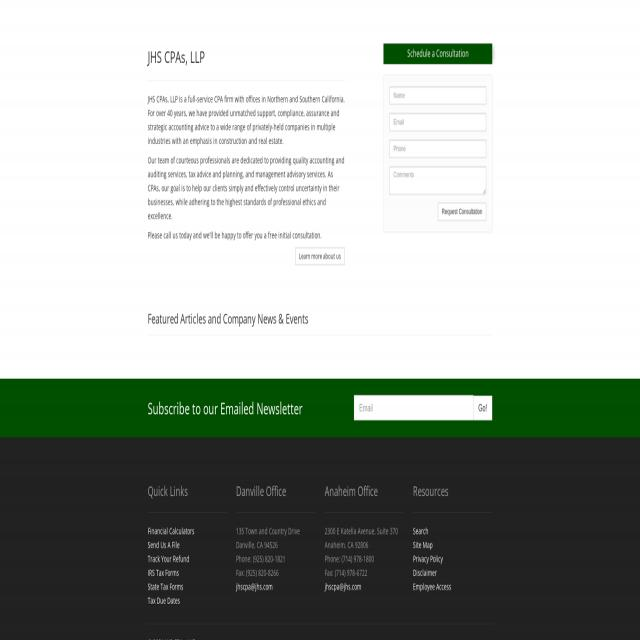button: (295, 247, 345, 265), (438, 202, 486, 220), (473, 396, 492, 420)
field: (354, 396, 474, 420), (390, 168, 486, 193), (390, 86, 486, 105), (390, 113, 486, 132), (390, 140, 486, 158)
